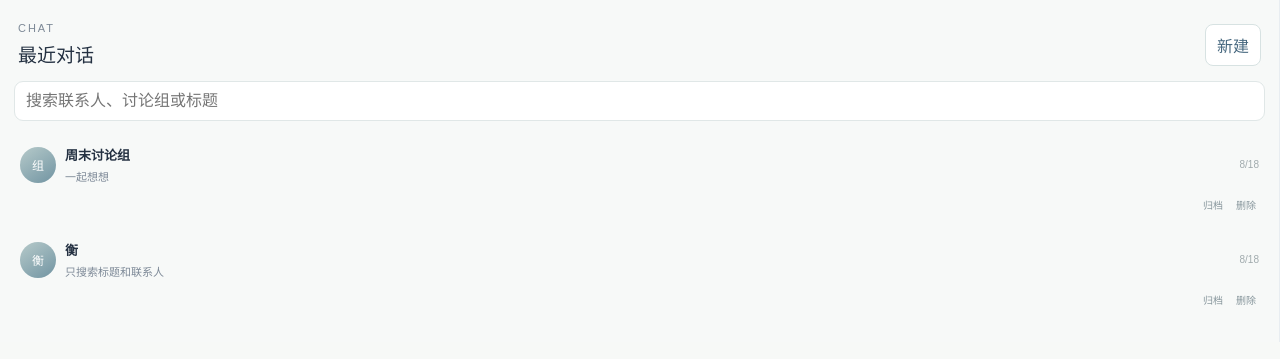
Test case: ConversationList › searches contact, group and title fields without message full-text search
Type "讨论组" into the search field named "搜索对话".
click(640, 101); type("讨论组")  # box [14,81,1265,121]
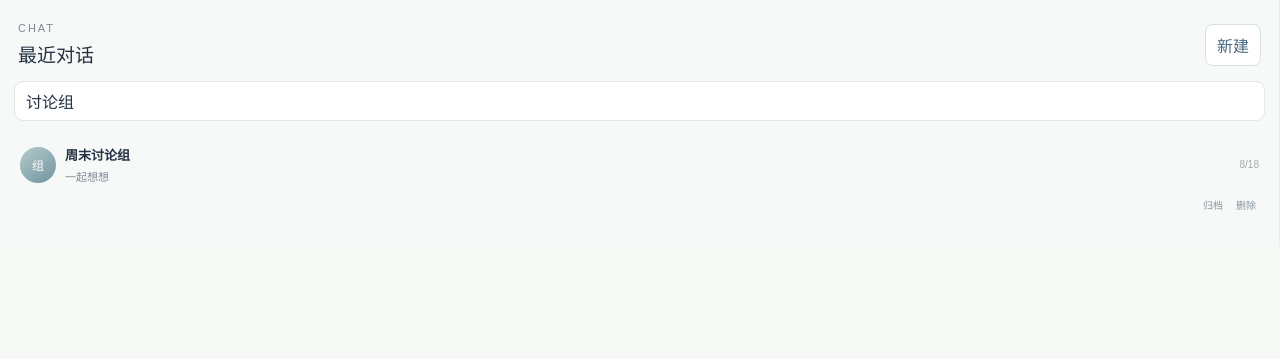
Check: the button "组 周末讨论组 一起想想 8/18" is shown, box [10,135,1269,194]
Check: the button "衡" is gone
Replace the text in the search field named "搜索对话" with "只搜索标题和联系人" at coordinates (640, 101), box [14,81,1265,121]
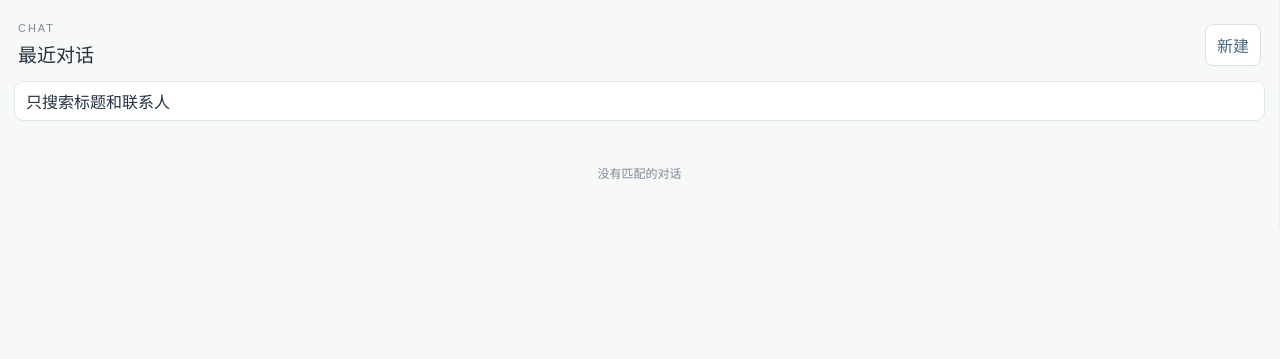
Check: the text "没有匹配的对话" is shown, box [598,167,682,181]
